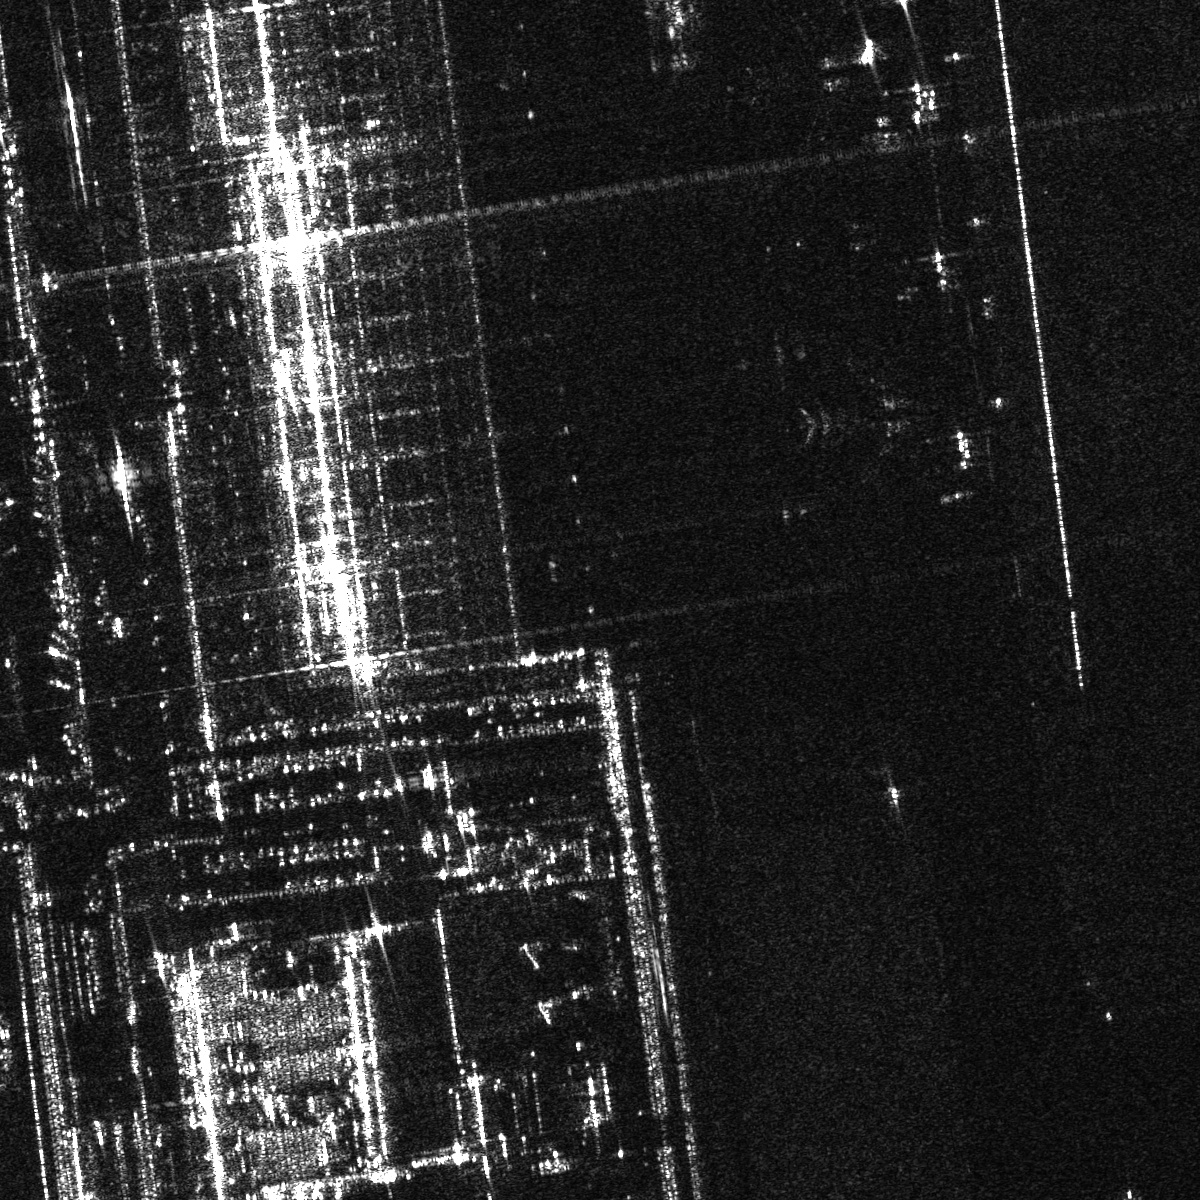A330: (745, 13, 858, 142)
Boeing787: (799, 353, 938, 482)
